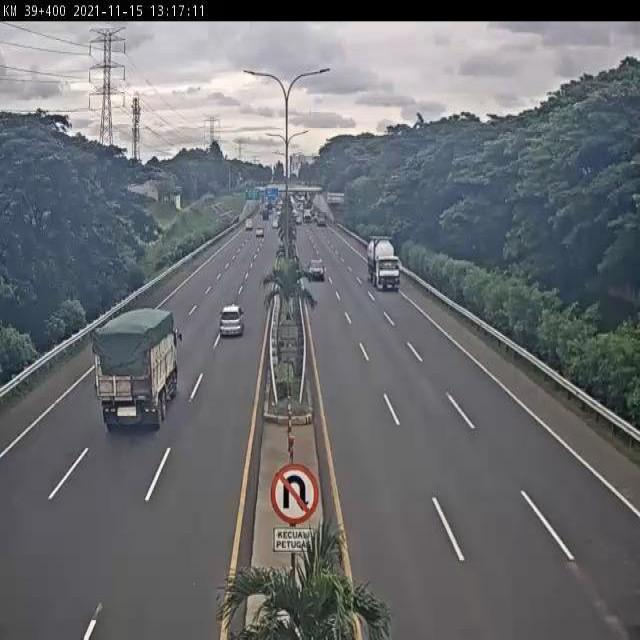car: (217, 302, 247, 342), (307, 255, 328, 284)
truck-l-: (92, 306, 182, 434)
truck-xl-: (367, 234, 402, 294)
